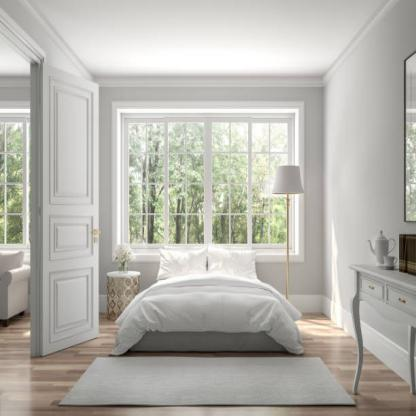Window: (114, 99, 302, 258)
Wooden floor: (0, 323, 404, 416), (296, 313, 360, 396)
